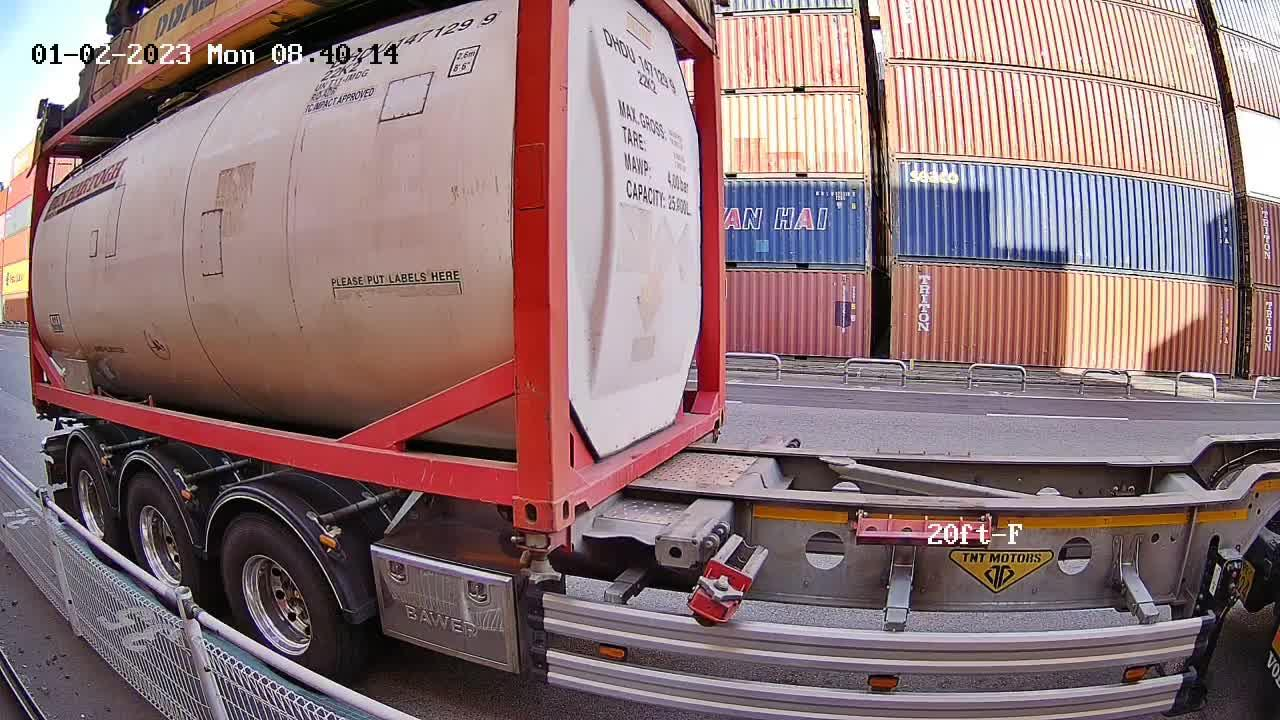Chassis: (555, 430, 716, 552)
Cone: (518, 528, 566, 588)
Hole_L: (553, 457, 591, 531)
Hole_R: (487, 464, 550, 532), (706, 388, 727, 430)
Tire: (221, 521, 340, 687), (127, 476, 201, 617), (70, 446, 116, 562)
